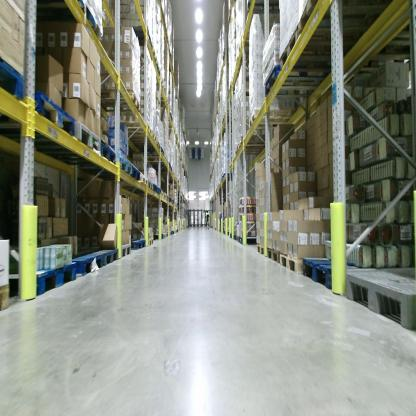pallet: (277, 25, 379, 77), (343, 265, 415, 334), (298, 3, 405, 39), (8, 89, 75, 139), (9, 259, 78, 302), (35, 1, 108, 40), (299, 254, 364, 294), (262, 66, 331, 98), (68, 120, 102, 160), (1, 50, 25, 103), (248, 107, 302, 130), (67, 252, 104, 277), (98, 89, 140, 110), (233, 138, 270, 158), (281, 253, 304, 279), (115, 120, 152, 136), (91, 248, 117, 267), (247, 2, 282, 15), (102, 138, 117, 166), (133, 142, 164, 155), (128, 139, 160, 151), (140, 155, 169, 165), (265, 248, 281, 266), (130, 132, 158, 142), (118, 159, 133, 177), (1, 284, 10, 312), (129, 239, 146, 251), (132, 160, 141, 182), (121, 244, 132, 258), (140, 168, 148, 185), (256, 243, 265, 257), (146, 178, 153, 191), (152, 234, 163, 241), (147, 239, 155, 247), (153, 182, 158, 193), (157, 187, 161, 196), (160, 188, 163, 198), (164, 192, 167, 200), (163, 233, 167, 238)
